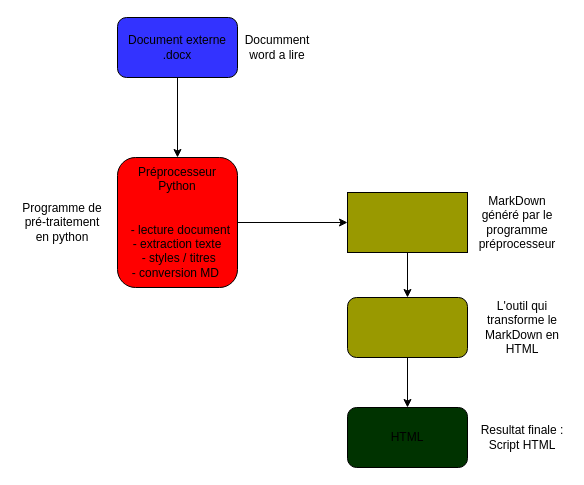
Some shapes in this 584 by 485 pixel diagram are drawn without their labels. The shapes that lost their labels are listed below. From the top down, each one's box as (x1, y1, x2, y2) in pixels, then its label:
(346, 192, 468, 252): Markdown CommonMark
(346, 296, 468, 358): Mistletoe
